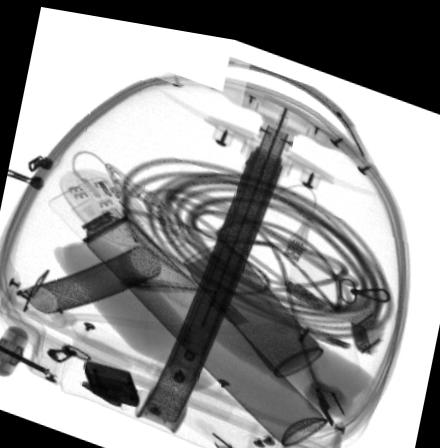Lighter: (81, 357, 139, 402)
Sprayer: (46, 171, 327, 435)
